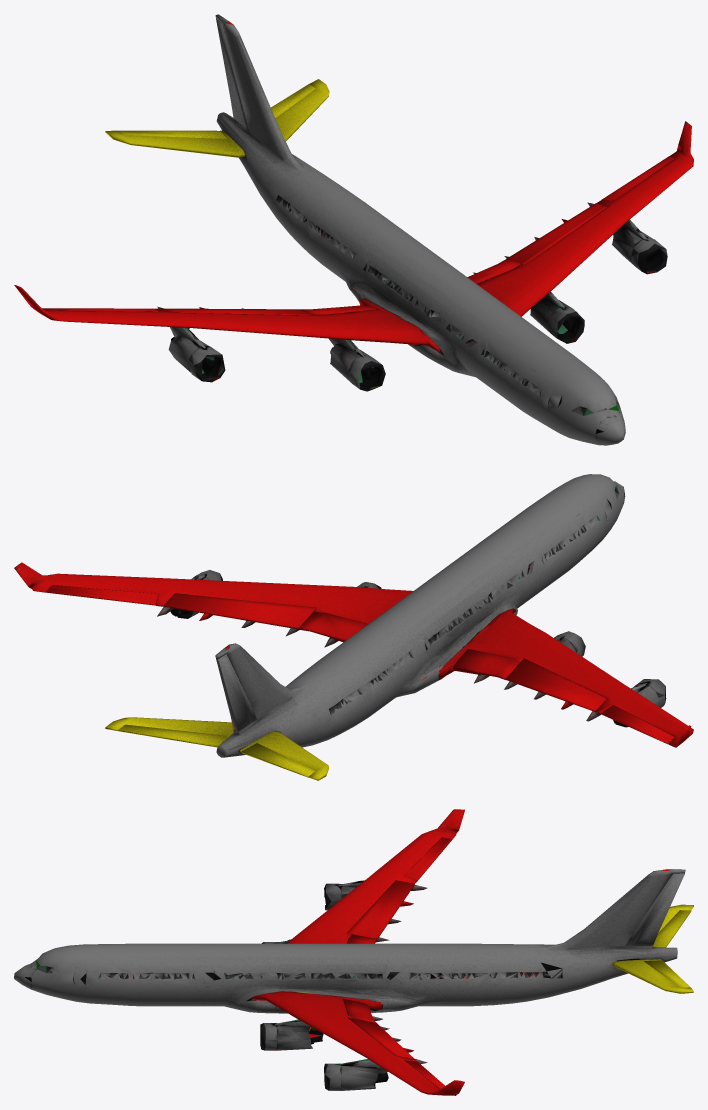
File: airbus_m.obj
The picture shows the model from 3 angles, top to bottom: view 1: azimuth 30°, elevation 25°; view 2: azimuth 150°, elevation 25°; view 3: azimuth 270°, elevation 25°; orthographic projection. The views are drawn at different scales.
Size of the model in its own units: 16.8 by 3.99 by 17.74.
Materials: 13 (10 with a texture image).
